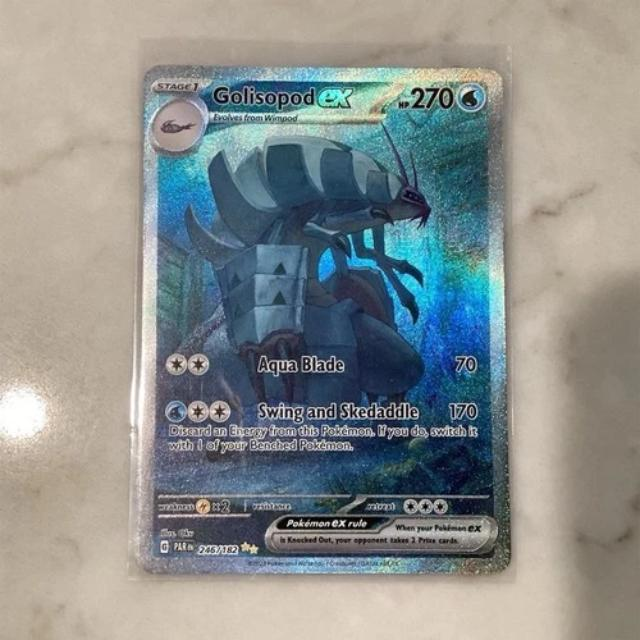Card: (133, 59, 516, 580)
Name: (208, 79, 358, 117)
